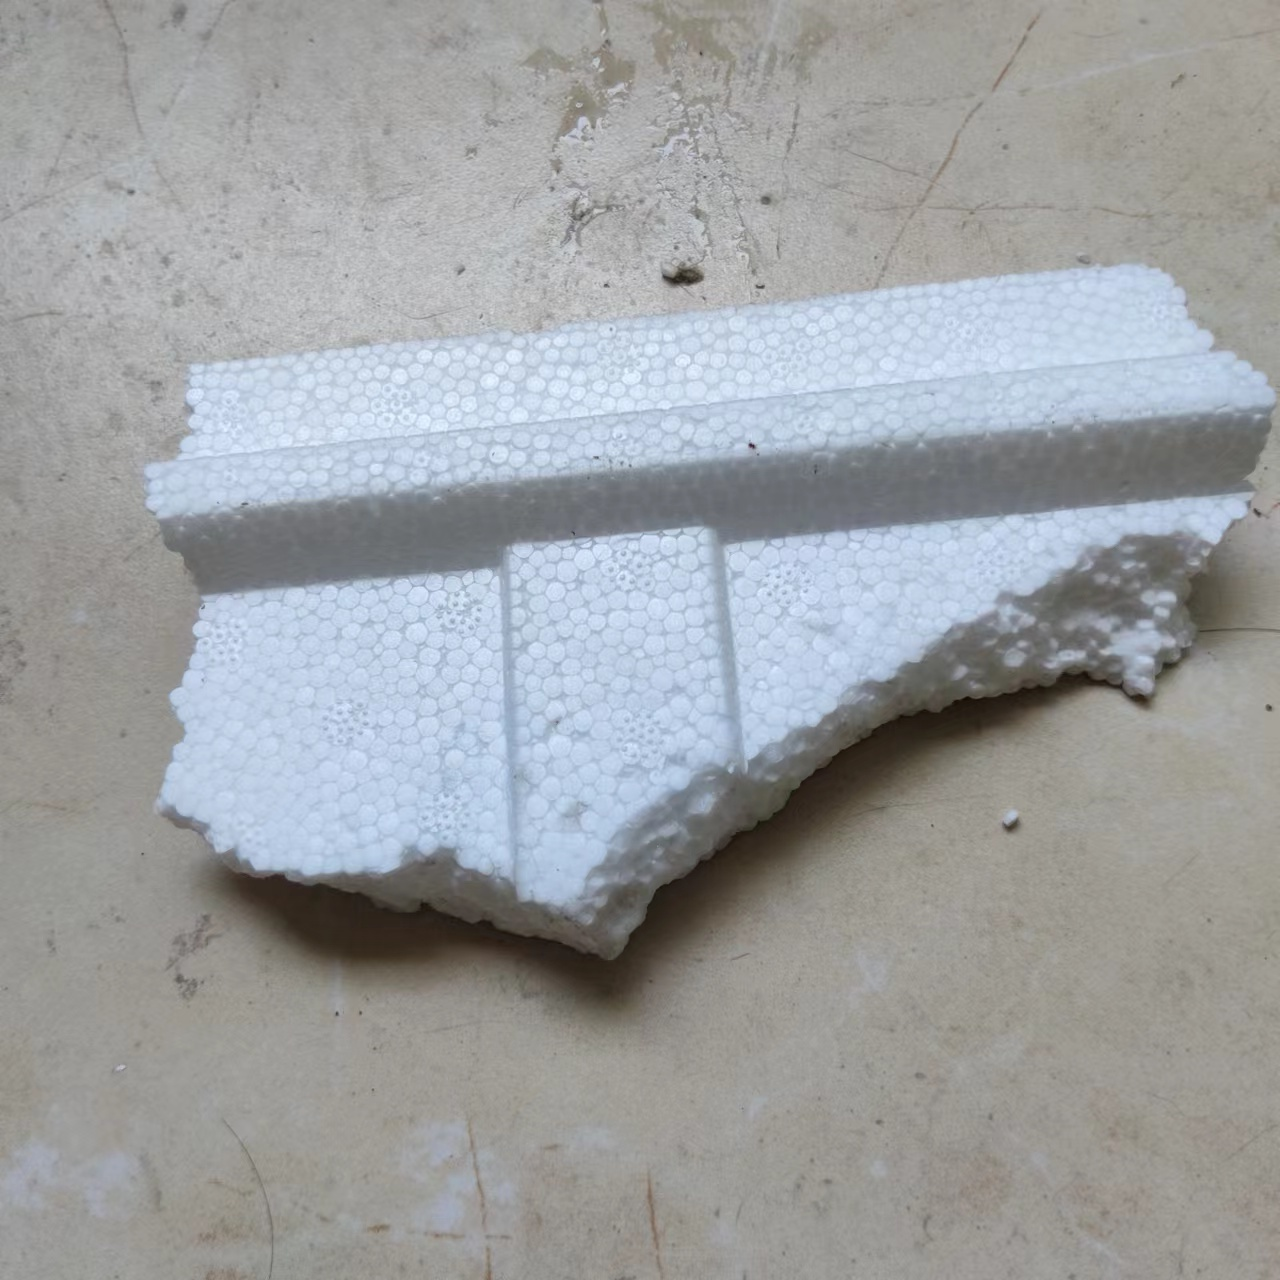5/可回收垃圾/泡沫: (144, 264, 1278, 962)
